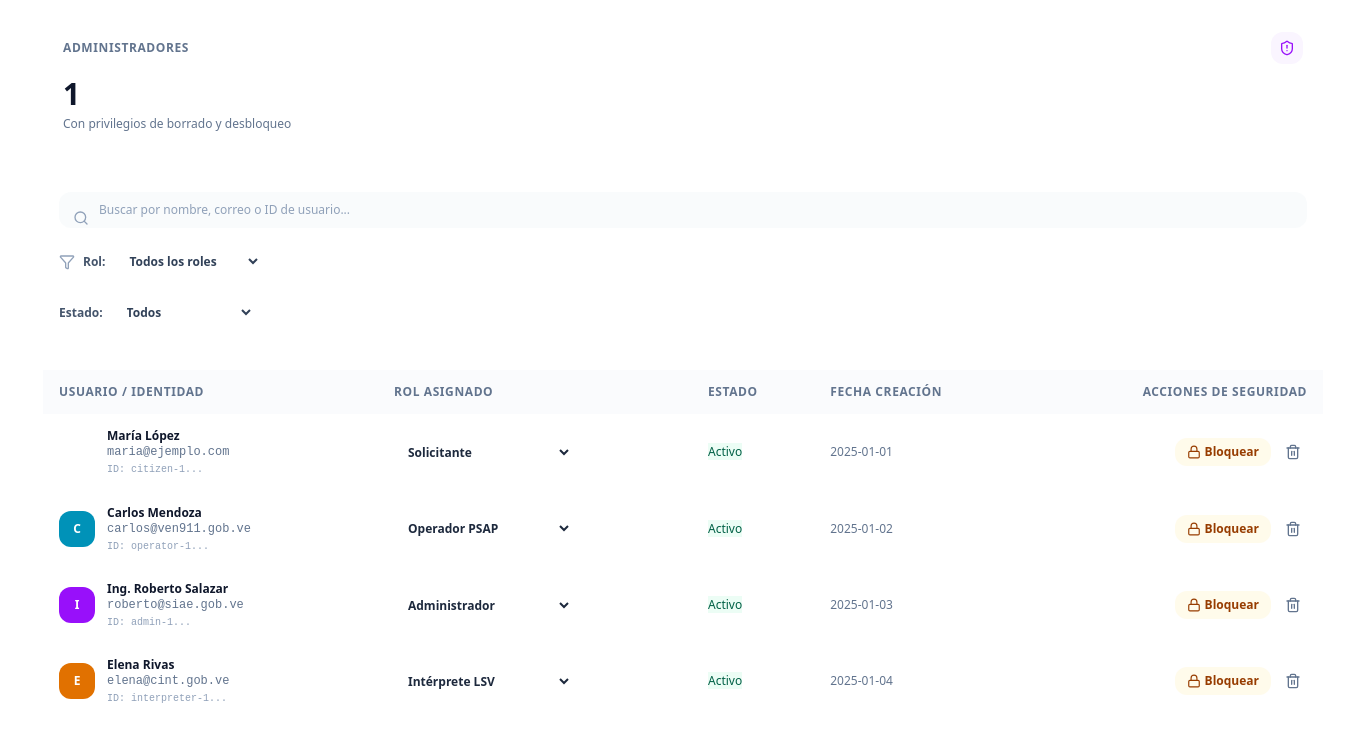
Test: Admin Users Page UI Component › toggles block and unblock via UI action button
(page scrolled)
Expected: the text "María López" is shown, [107,427,180,444]
Click the button with aria-label "bloquear acceso a maría lópez": coordinates (1223, 452) [1175,438,1271,466]
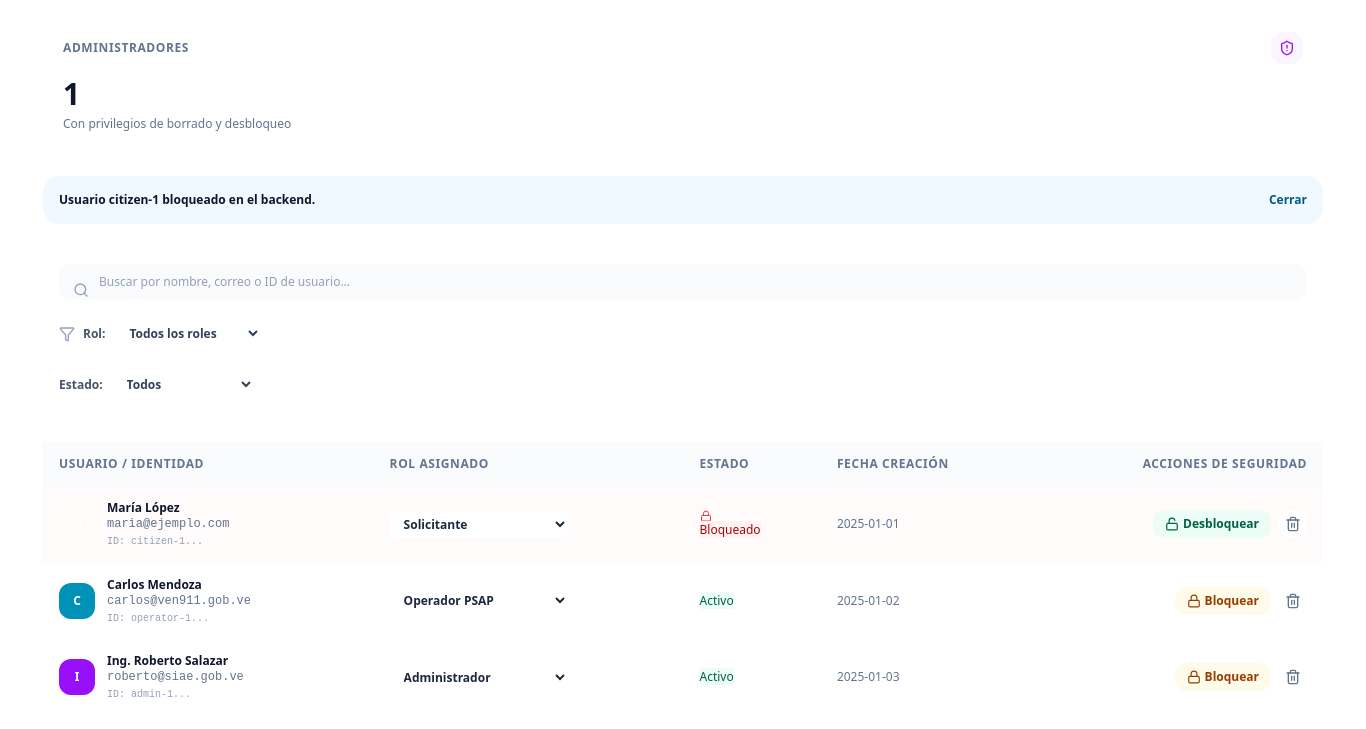
Result: the button with aria-label "desbloquear acceso a maría lópez" is shown at [1153,510,1271,538]
